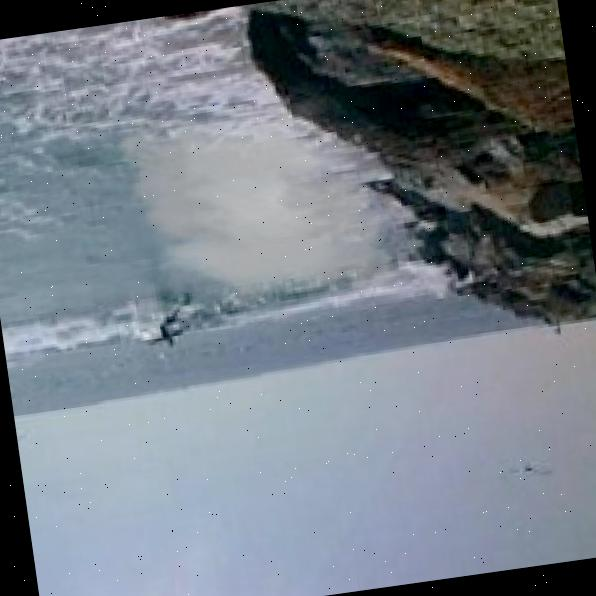smoke: (104, 78, 413, 341)
